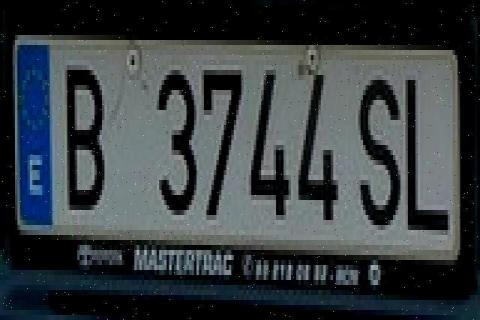LicensePlate: (11, 17, 478, 303)
